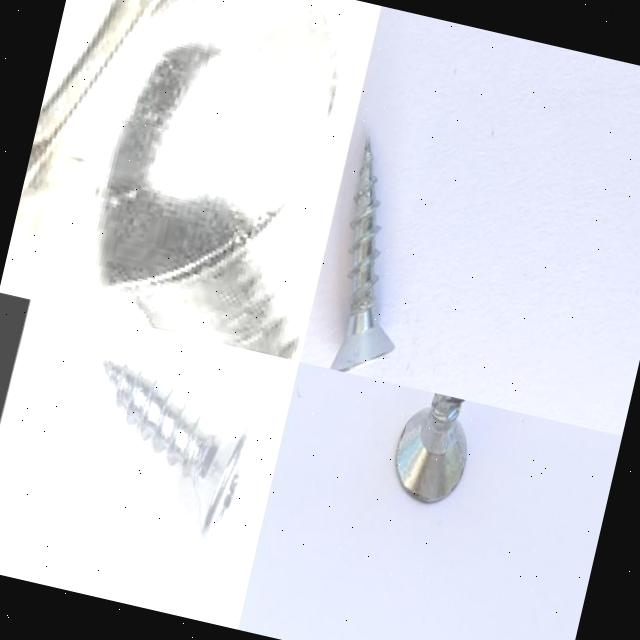Screw: (1, 0, 341, 361), (102, 358, 258, 542), (329, 135, 394, 372), (396, 393, 467, 501)
